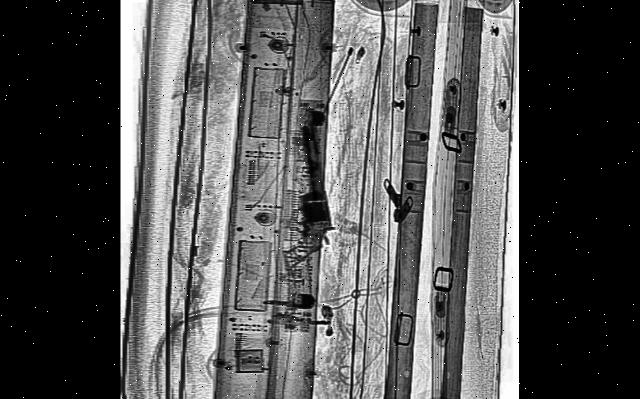Gun: (283, 107, 330, 272)
